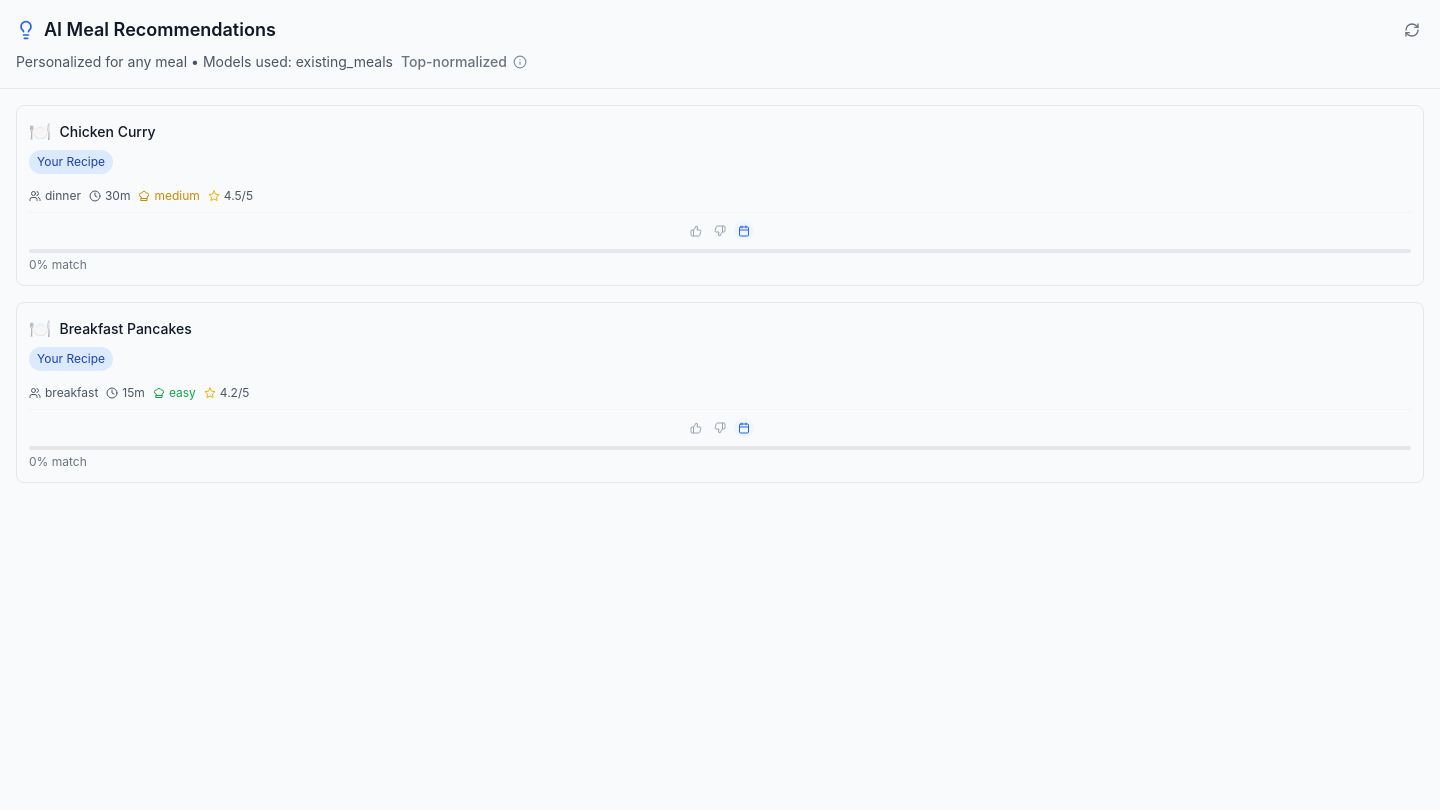
Test: MealRecommendations › User Interactions › handles modal close
Expected: the heading "Chicken Curry" is shown, [60,123,156,140]
# Open modal
Click the 1st button titled "Add to meal plan".
click(744, 231)  # box [734,221,754,241]
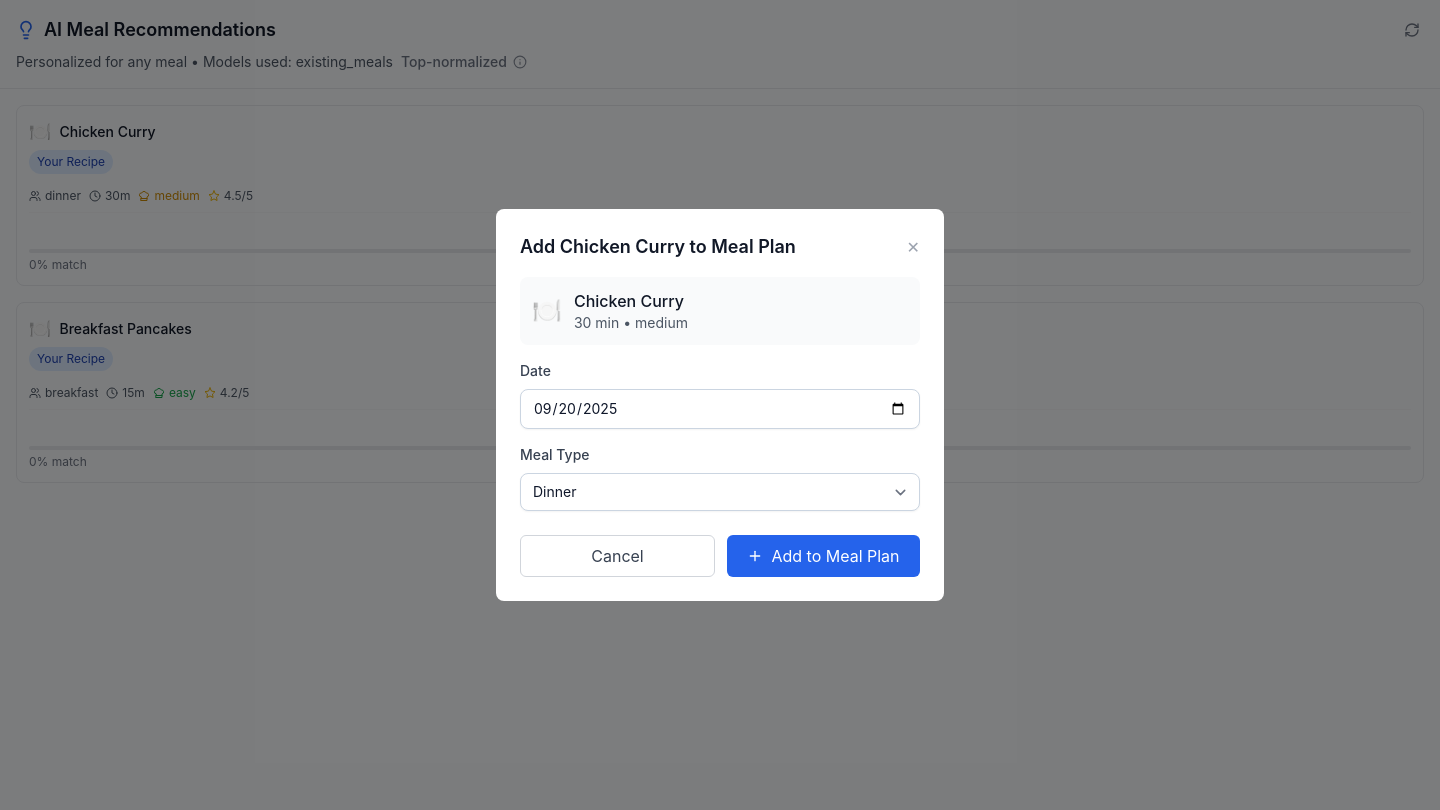
Now the heading "Add Chicken Curry to Meal Plan" is shown, box [520,233,796,261]
# Close modal
Click the button "Cancel".
click(618, 556)  # box [520,535,715,577]
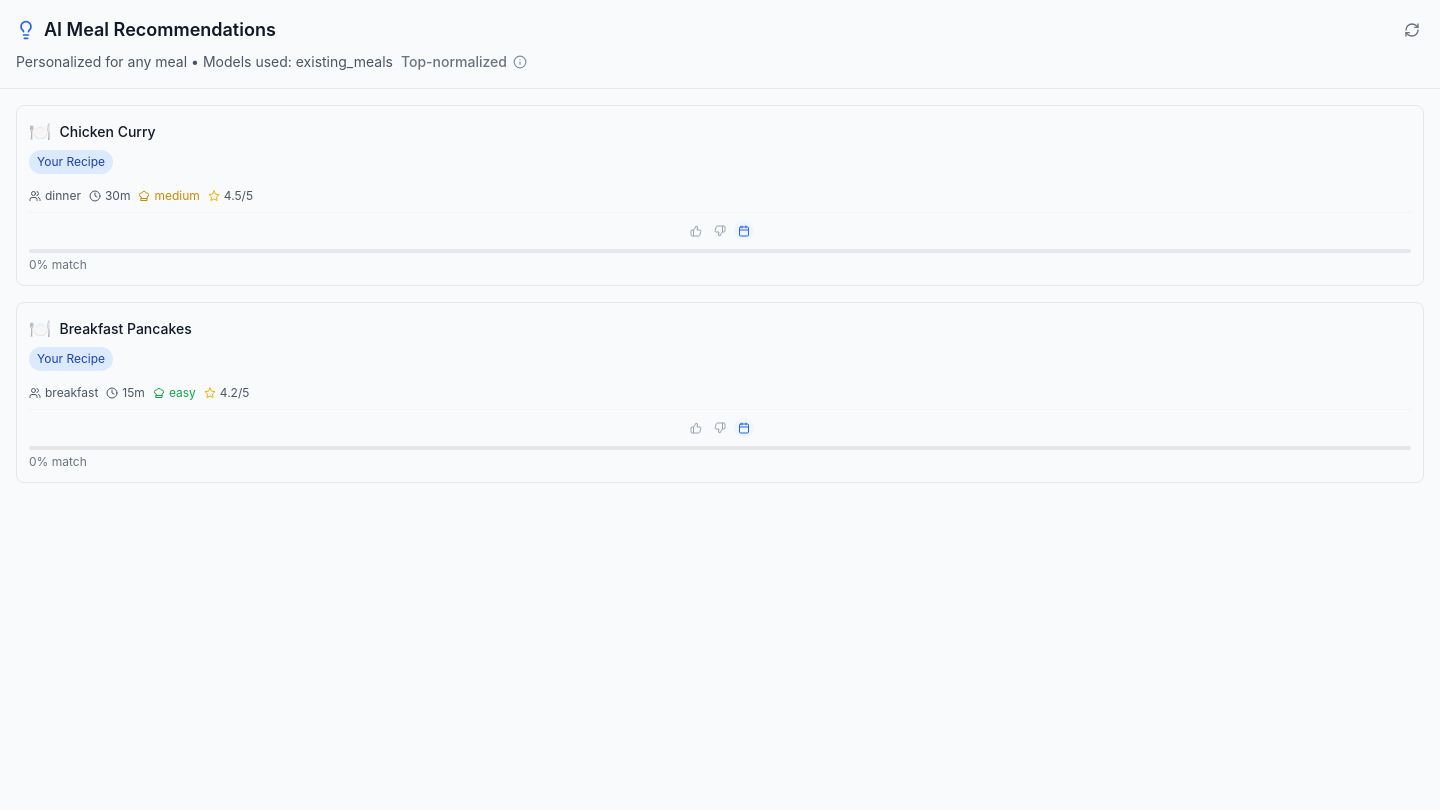
Now the heading "Add Chicken Curry to Meal Plan" is gone
